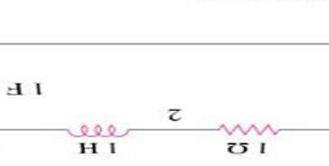inductor: (59, 115, 136, 142)
